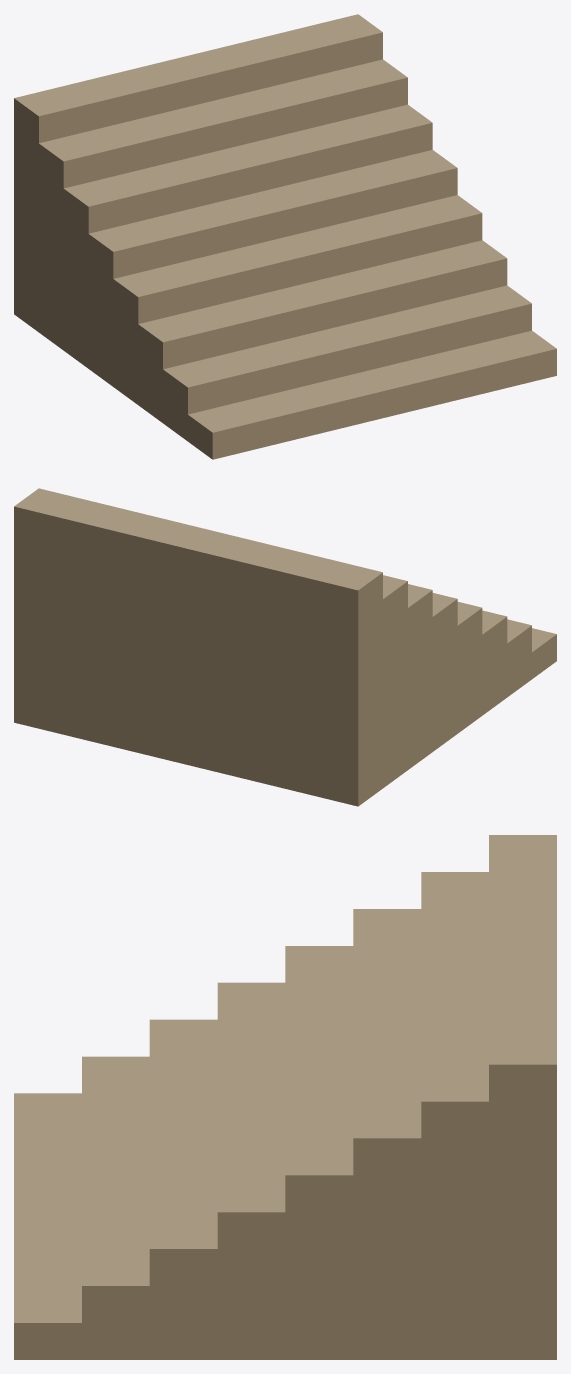
Rendered from coast_water_steps.glb.
3 renders of one model, top to bottom at view 1: azimuth 30°, elevation 25°; view 2: azimuth 150°, elevation 25°; view 3: azimuth 270°, elevation 25°, orthographic. The views are drawn at different scales.
Parts seen in each view (by area): view 1: coast_water_steps; view 2: coast_water_steps; view 3: coast_water_steps.
Part boxes in pixels (x1=…): coast_water_steps: x1=14, y1=14, x2=556, y2=459; coast_water_steps: x1=14, y1=488, x2=556, y2=806; coast_water_steps: x1=14, y1=835, x2=556, y2=1359.
Bounding box in the file's own units: 2 × 1.2 × 2.
